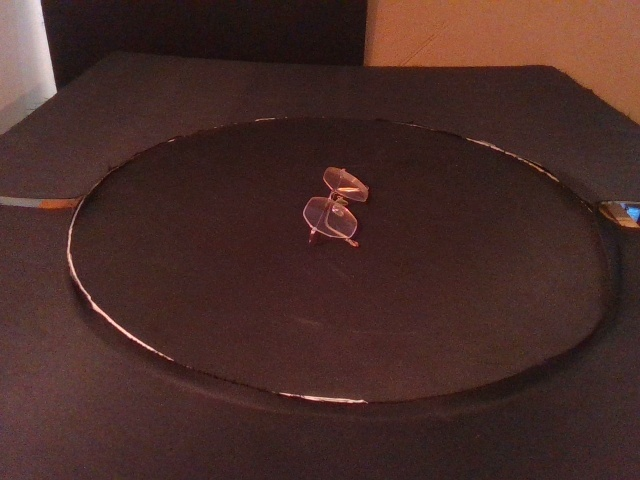glasses: (302, 165, 371, 248)
